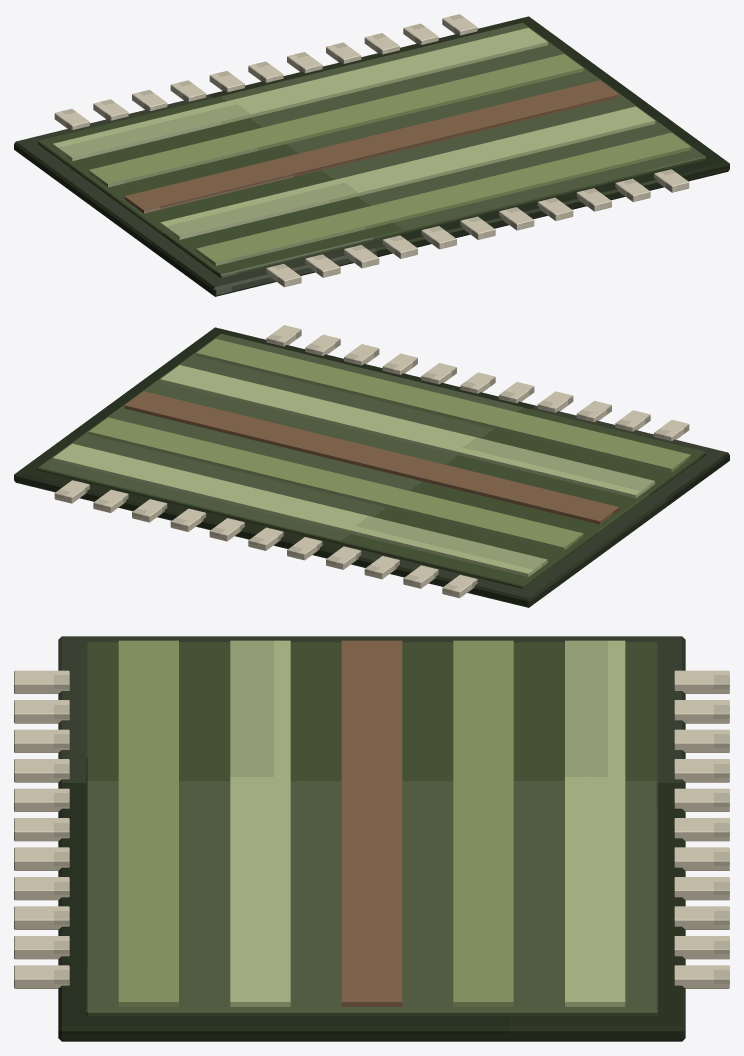
Rendered from apartment_carpet_olive.glb.
The picture shows the model from 3 angles, top to bottom: view 1: azimuth 30°, elevation 25°; view 2: azimuth 150°, elevation 25°; view 3: azimuth 270°, elevation 25°; orthographic projection. The views are drawn at different scales.
Visible parts, largest first — view 1: WovenField, TextileBase, WovenBand_1, WovenBand_2, WovenBand_3, WovenBand_4, WovenBand_0, FringeF_2, FringeF_-1, FringeF_0, FringeF_3, FringeF_-3 (+17 smaller); view 2: WovenField, TextileBase, WovenBand_3, WovenBand_2, WovenBand_1, WovenBand_0, WovenBand_4, FringeB_2, FringeB_-1, FringeB_0, FringeB_3, FringeB_-3 (+17 smaller); view 3: WovenField, TextileBase, WovenBand_2, WovenBand_1, WovenBand_3, WovenBand_0, WovenBand_4, FringeB_3, FringeB_5, FringeB_-3, FringeB_-4, FringeB_-5 (+17 smaller).
Boxes of the visible parts, x1,y1,x2,y2 form: WovenField: [37, 22, 706, 277]; TextileBase: [14, 16, 729, 296]; WovenBand_1: [160, 106, 655, 239]; WovenBand_2: [124, 80, 619, 213]; WovenBand_3: [88, 54, 583, 187]; WovenBand_4: [53, 27, 547, 160]; WovenBand_0: [196, 132, 690, 265]; FringeF_2: [537, 197, 573, 220]; FringeF_-1: [421, 226, 456, 249]; FringeF_0: [460, 216, 495, 239]; FringeF_3: [576, 188, 611, 211]; FringeF_-3: [344, 245, 379, 268]; WovenField: [37, 333, 706, 588]; TextileBase: [14, 327, 729, 607]; WovenBand_3: [88, 417, 583, 550]; WovenBand_2: [124, 391, 619, 524]; WovenBand_1: [160, 365, 655, 498]; WovenBand_0: [196, 338, 690, 471]; WovenBand_4: [53, 443, 547, 576]; FringeB_2: [170, 508, 206, 531]; FringeB_-1: [287, 537, 322, 560]; FringeB_0: [248, 527, 283, 550]; FringeB_3: [132, 499, 167, 522]; FringeB_-3: [364, 556, 399, 579]; WovenField: [86, 642, 657, 1015]; TextileBase: [58, 636, 685, 1041]; WovenBand_2: [341, 640, 402, 1006]; WovenBand_1: [230, 640, 290, 1006]; WovenBand_3: [453, 640, 513, 1006]; WovenBand_0: [118, 640, 178, 1006]; WovenBand_4: [565, 640, 625, 1006]; FringeB_3: [674, 906, 729, 929]; FringeB_5: [674, 965, 729, 988]; FringeB_-3: [674, 729, 729, 752]; FringeB_-4: [674, 700, 729, 723]; FringeB_-5: [674, 670, 729, 693].
Bounding box in the file's own units: 2 × 0.06 × 1.54.
1 material, 1 textured.
